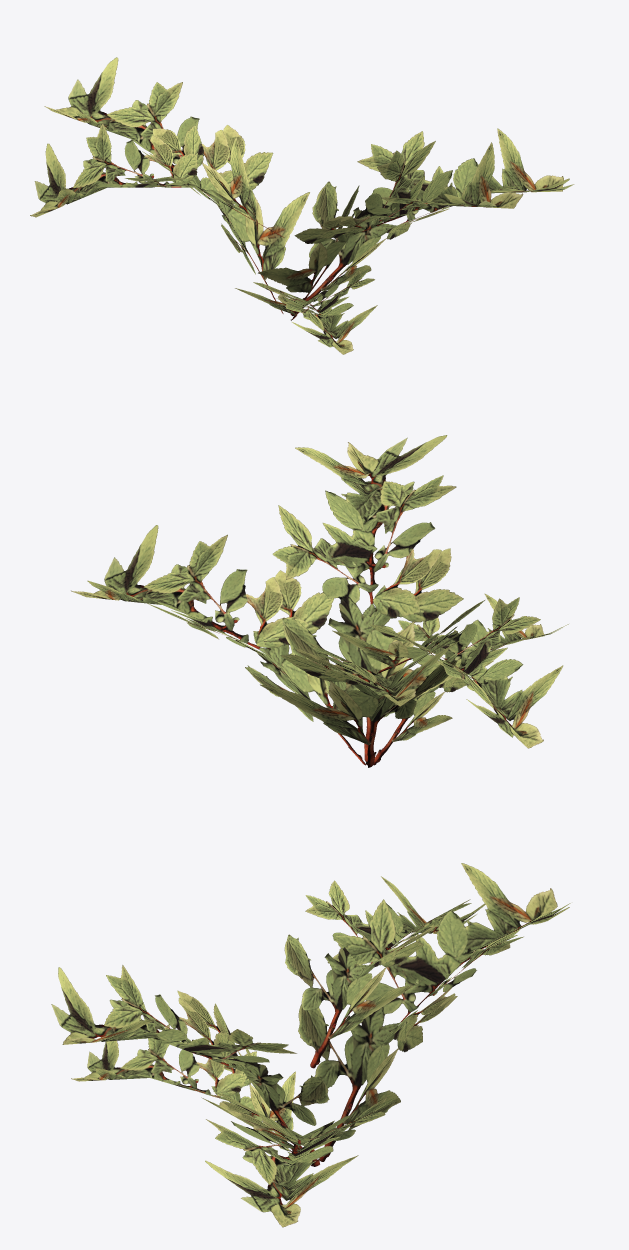
Rendered from bush2.fbx.
The picture shows the model from 3 angles, top to bottom: view 1: azimuth 30°, elevation 25°; view 2: azimuth 150°, elevation 25°; view 3: azimuth 270°, elevation 25°; orthographic projection. The views are drawn at different scales.
Visible parts, largest first — view 1: Box001; view 2: Box001; view 3: Box001.
Part boxes in pixels (box(x1,y1,x2,y2)): Box001: box(30, 57, 574, 354); Box001: box(71, 435, 568, 767); Box001: box(51, 863, 570, 1227).
Bounding box in the file's own units: 1.44 × 0.6087 × 1.26.
